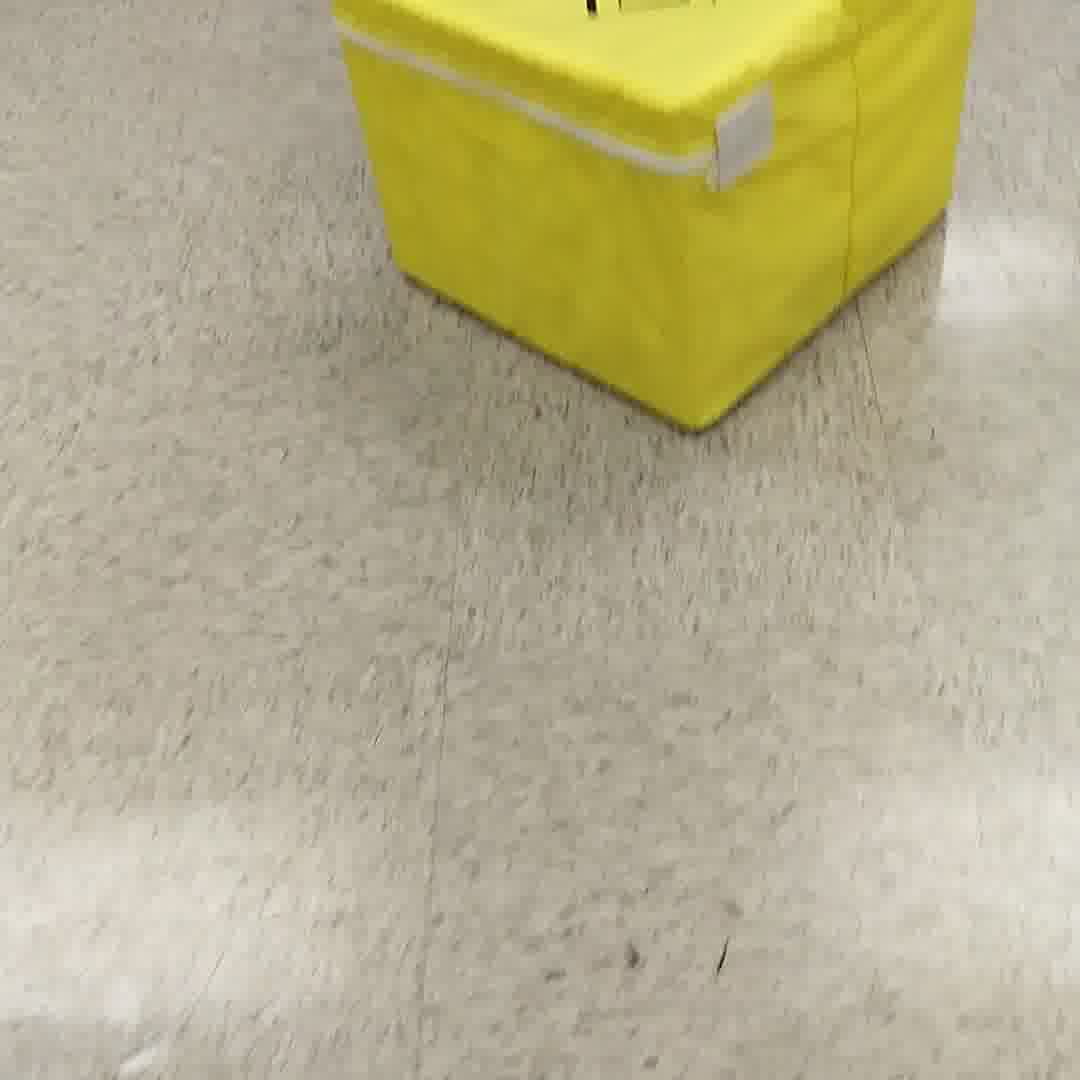box: (332, 8, 963, 427)
